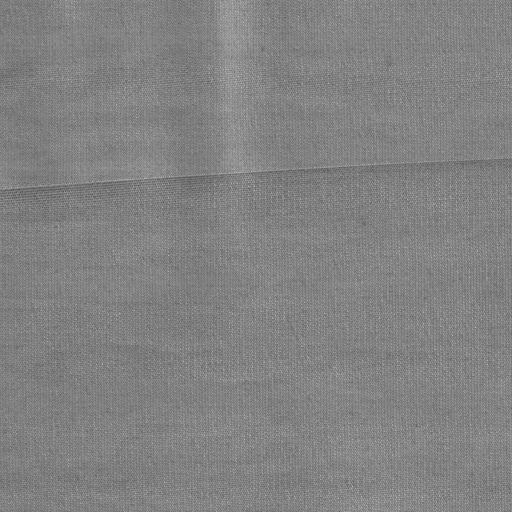defect: (2, 153, 512, 213)
